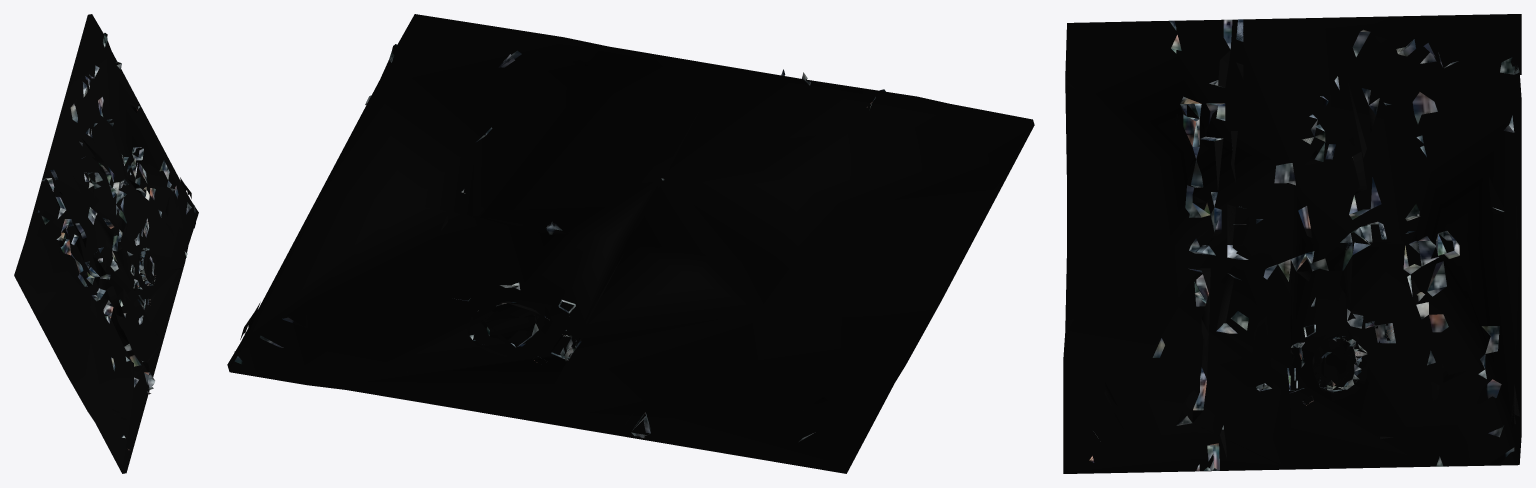
3 views of the same model, side by side, from view 1: azimuth 30°, elevation 25°; view 2: azimuth 150°, elevation 25°; view 3: azimuth 270°, elevation 25° (orthographic). The views are drawn at different scales.
Visible parts, largest first — view 1: node_30436272704370_mesh0; view 2: node_30436272704370_mesh0; view 3: node_30436272704370_mesh0.
Part boxes in pixels (<box>): node_30436272704370_mesh0: <box>14,14,198,473</box>; node_30436272704370_mesh0: <box>227,14,1034,473</box>; node_30436272704370_mesh0: <box>1063,14,1521,473</box>.
Bounding box in the file's own units: 2338 × 2328 × 1773.
Materials: 1 (1 with a texture image).
